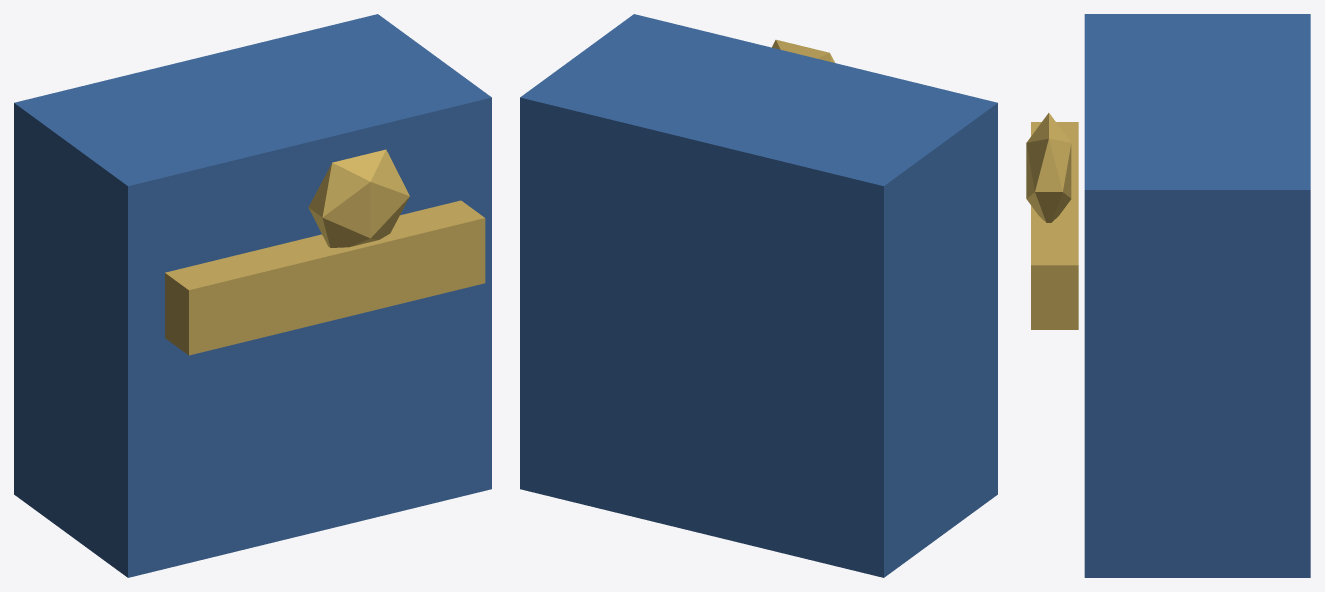
Rendered from festival_outfit.glb.
3 views of the same model, side by side, from view 1: azimuth 30°, elevation 25°; view 2: azimuth 150°, elevation 25°; view 3: azimuth 270°, elevation 25° (orthographic).
Parts seen in each view (by area): view 1: outfit_torso, outfit_trim, outfit_badge; view 2: outfit_torso; view 3: outfit_torso, outfit_trim, outfit_badge.
Part boxes in pixels (bbox=[...]): outfit_torso: bbox=[14, 14, 491, 577]; outfit_trim: bbox=[165, 200, 485, 355]; outfit_badge: bbox=[308, 149, 409, 247]; outfit_torso: bbox=[520, 14, 997, 577]; outfit_torso: bbox=[1084, 14, 1310, 577]; outfit_trim: bbox=[1031, 122, 1078, 329]; outfit_badge: bbox=[1026, 113, 1071, 222].
Bounding box in the file's own units: 0.7 × 0.72 × 0.4779.
